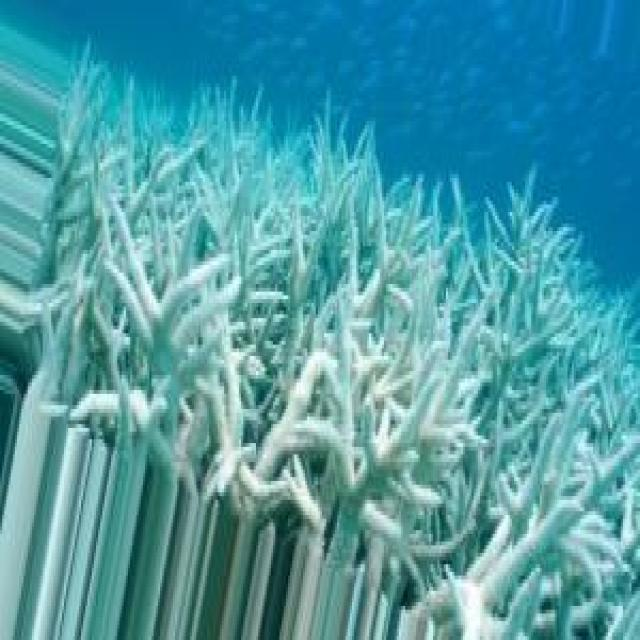bleached coral: (45, 62, 640, 637)
